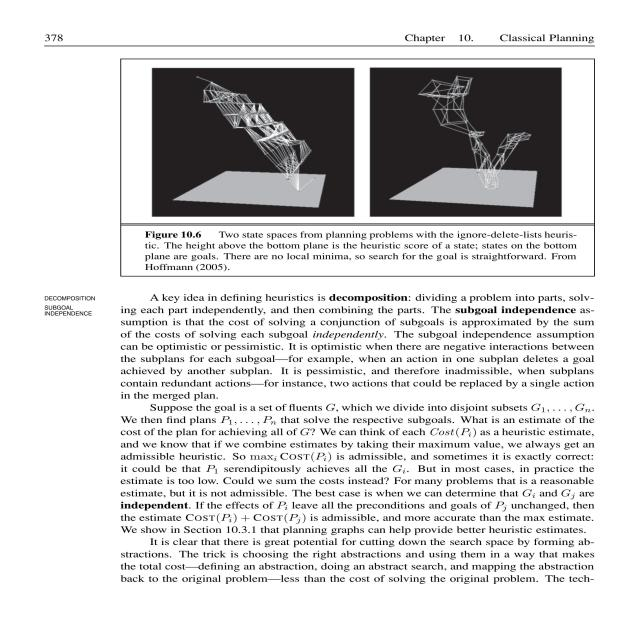diagram: (70, 56, 640, 280)
